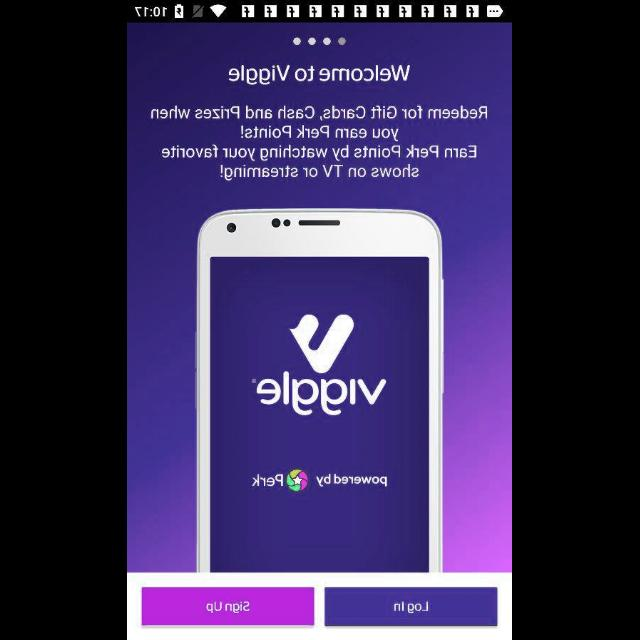image: (198, 209, 444, 573)
pageindicator: (293, 38, 347, 46)
text: (152, 106, 488, 180), (230, 65, 410, 85)
textbutton: (324, 587, 498, 625), (142, 588, 316, 624)
uppertaskbar: (128, 1, 512, 23)
